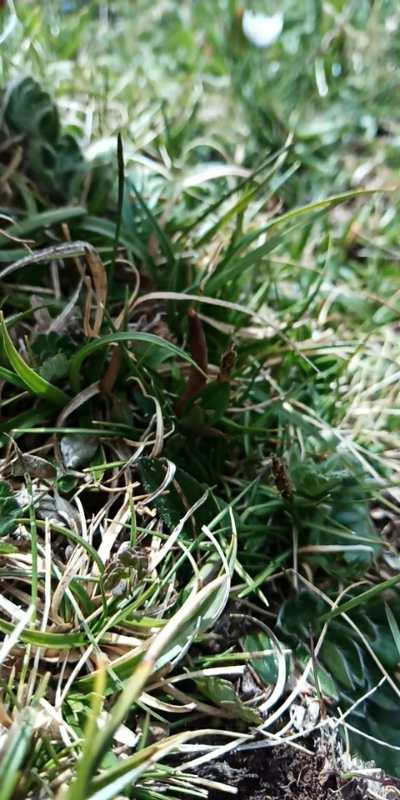Chongcao: (174, 306, 209, 419)
